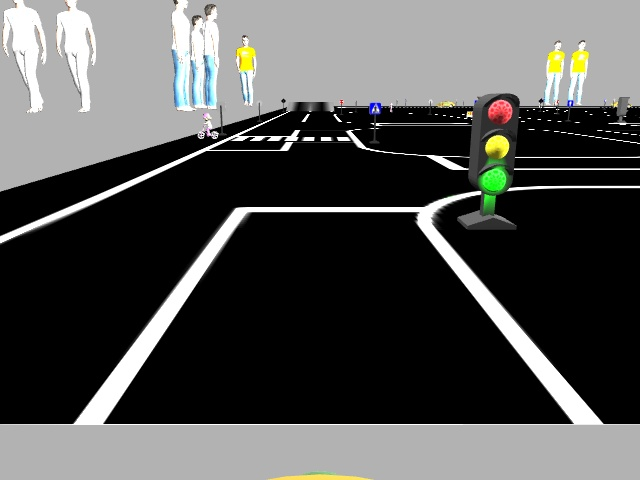Crosswalk: (369, 102, 381, 114)
Pedestrian: (196, 112, 219, 138)
TrafficLight: (470, 95, 518, 195)
